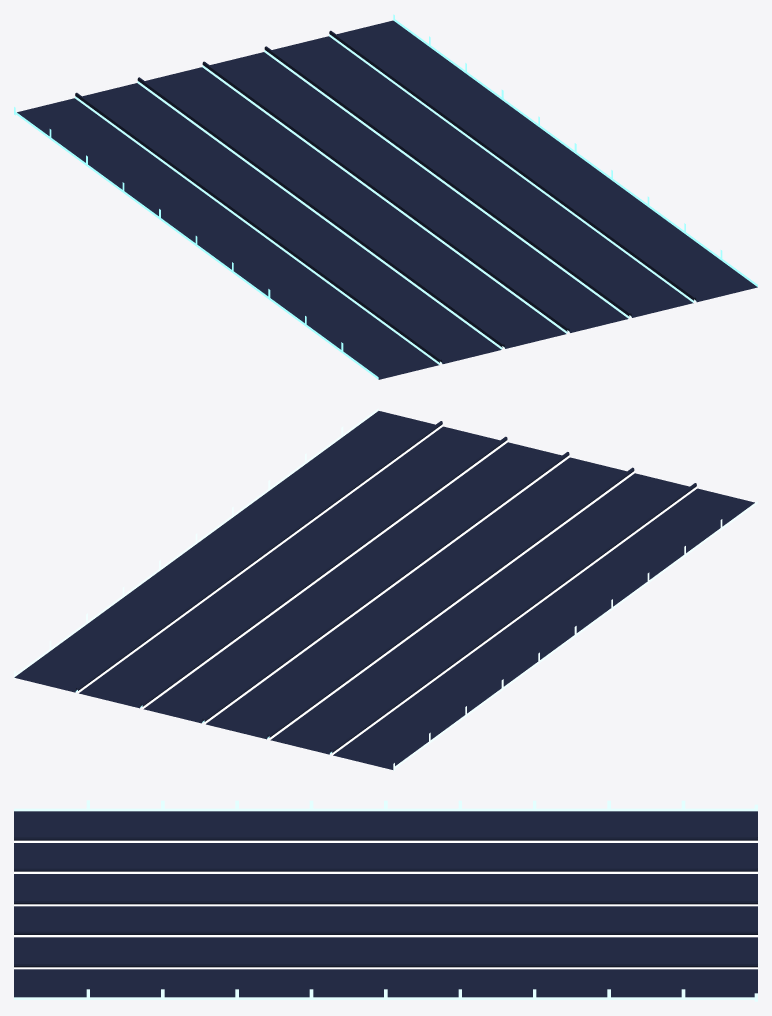
The model's file is Track_Lg_.fbx.
3 renders of one model, top to bottom at view 1: azimuth 30°, elevation 25°; view 2: azimuth 150°, elevation 25°; view 3: azimuth 270°, elevation 25°, orthographic.
Visible parts, largest first — view 1: Track_Lg_; view 2: Track_Lg_; view 3: Track_Lg_.
Boxes of the visible parts, box(x1,y1,x2,y2) form: Track_Lg_: box(14, 14, 757, 379); Track_Lg_: box(14, 408, 757, 771); Track_Lg_: box(14, 800, 757, 1001).
Size of the model in its own units: 12010 by 20011 by 367.
